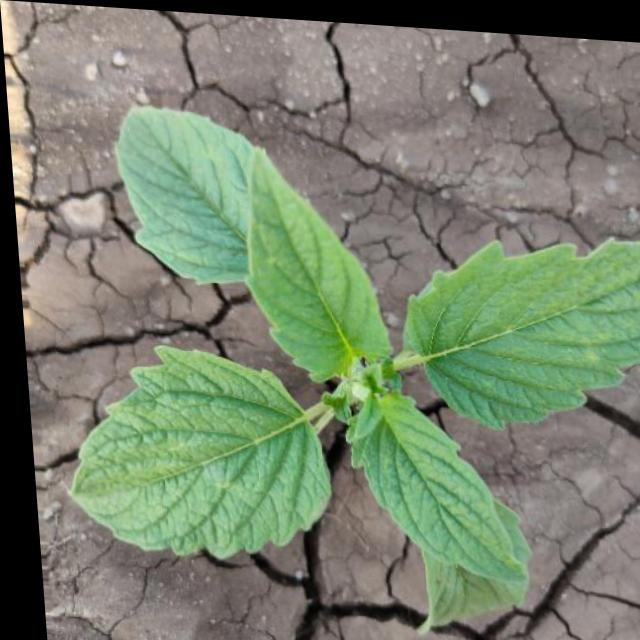crop: (46, 86, 640, 629)
